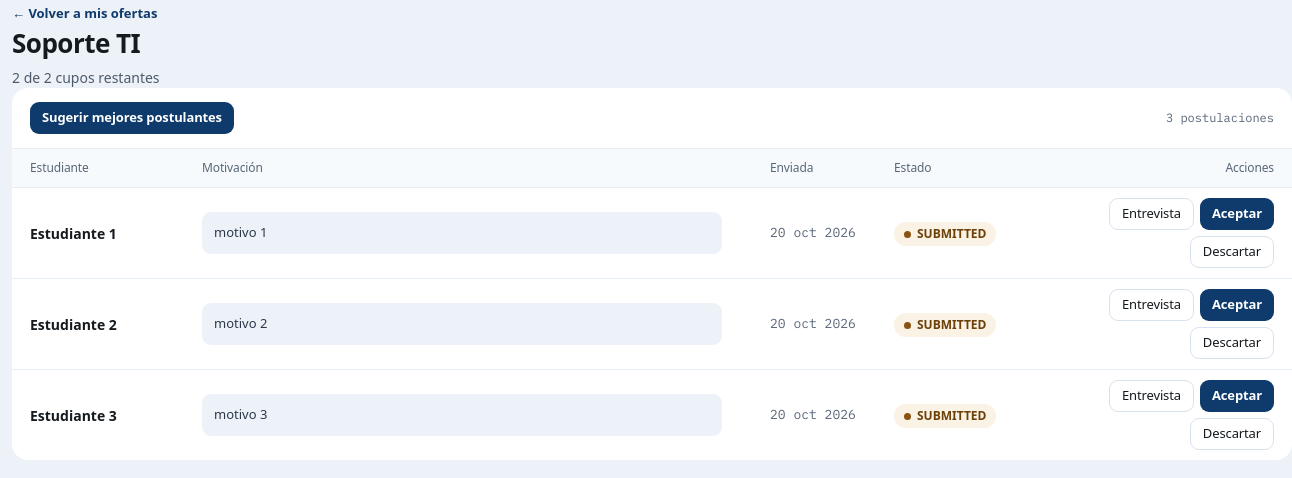
it: OfferApplicationsPage · sugerir mejores postulantes (IA-02) › "Quitar sugerencia" devuelve el orden original sin insignias
Click the button "Sugerir mejores postulantes". click: click(132, 118)
box: [30, 102, 234, 134]
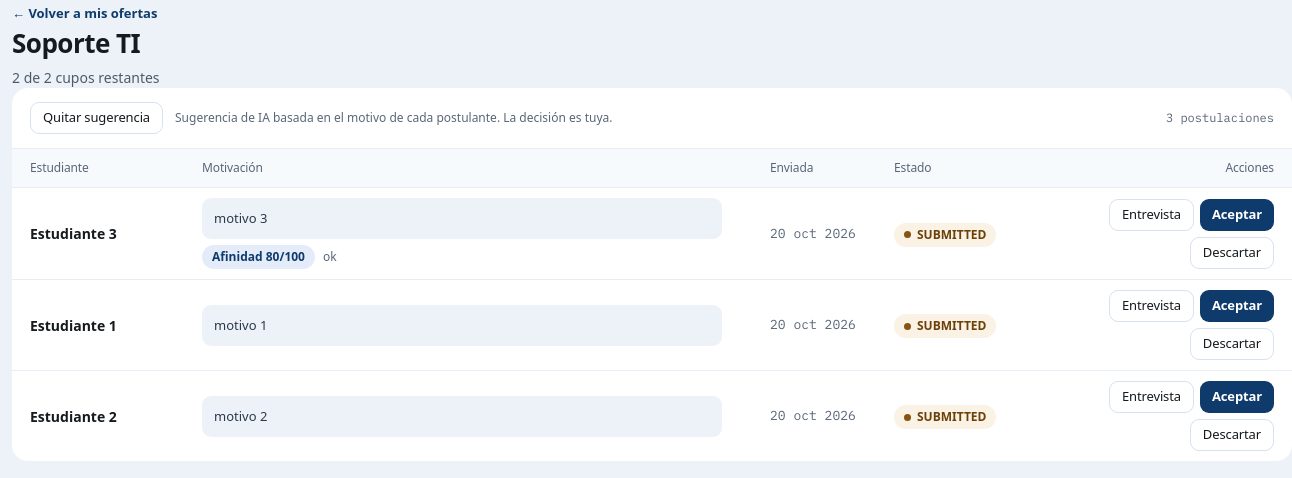
Now the text "Afinidad 80/100" is shown, box [212, 248, 305, 266]
Click the button "Quitar sugerencia". click: click(96, 118)
box: [30, 102, 163, 134]
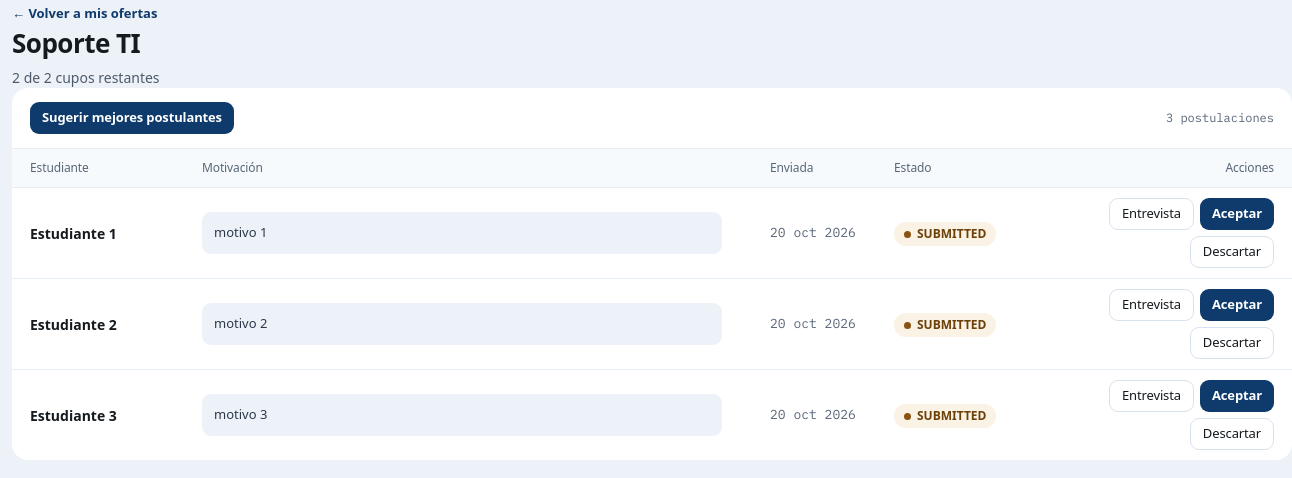
Now the text "Afinidad 80/100" is gone
